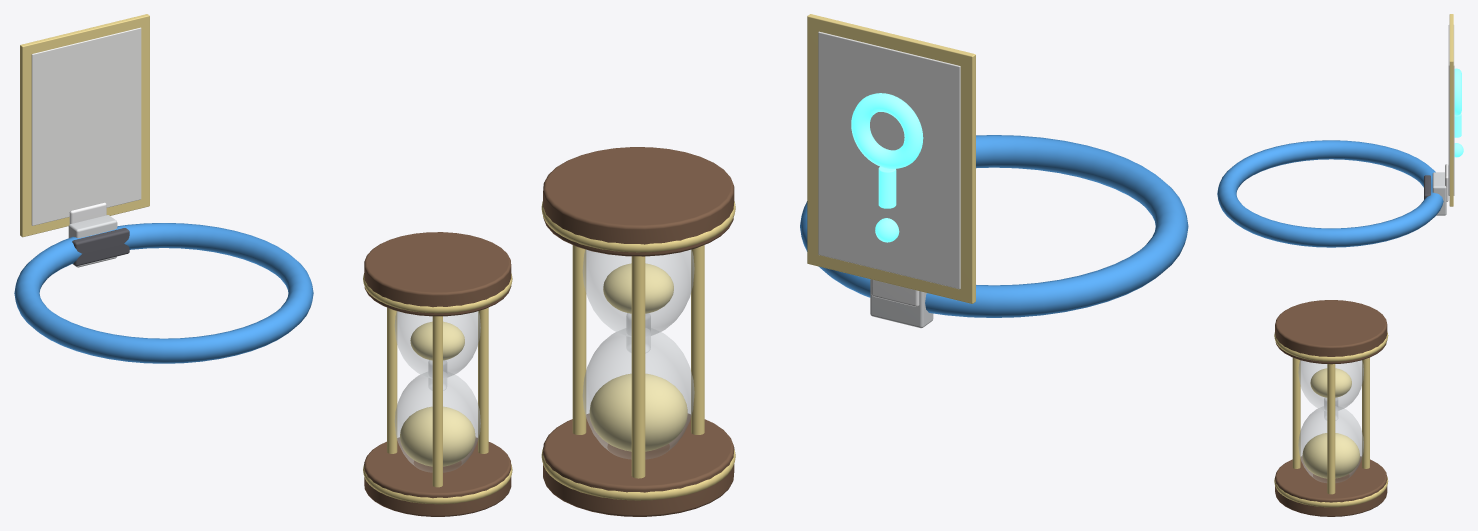
The model's file is hedbanz_pack.glb.
3 views of the same model, side by side, from view 1: azimuth 30°, elevation 25°; view 2: azimuth 150°, elevation 25°; view 3: azimuth 270°, elevation 25° (orthographic). The views are drawn at different scales.
Visible parts, largest first — view 1: Game_Timer_Hourglass, Mystery_Card_3D, Avatar_Headband_Pro; view 2: Game_Timer_Hourglass, Mystery_Card_3D, Avatar_Headband_Pro; view 3: Game_Timer_Hourglass, Avatar_Headband_Pro, Mystery_Card_3D.
Part boxes in pixels (left/top/right/bottom): Game_Timer_Hourglass: left=363, top=232, right=512, bottom=516; Mystery_Card_3D: left=20, top=14, right=149, bottom=237; Avatar_Headband_Pro: left=14, top=202, right=313, bottom=363; Game_Timer_Hourglass: left=541, top=147, right=735, bottom=516; Mystery_Card_3D: left=807, top=14, right=975, bottom=303; Avatar_Headband_Pro: left=800, top=135, right=1188, bottom=328; Game_Timer_Hourglass: left=1274, top=300, right=1388, bottom=516; Avatar_Headband_Pro: left=1217, top=140, right=1448, bottom=247; Mystery_Card_3D: left=1448, top=14, right=1463, bottom=206.
Size of the model in its own units: 1.03 by 0.975 by 0.614.
